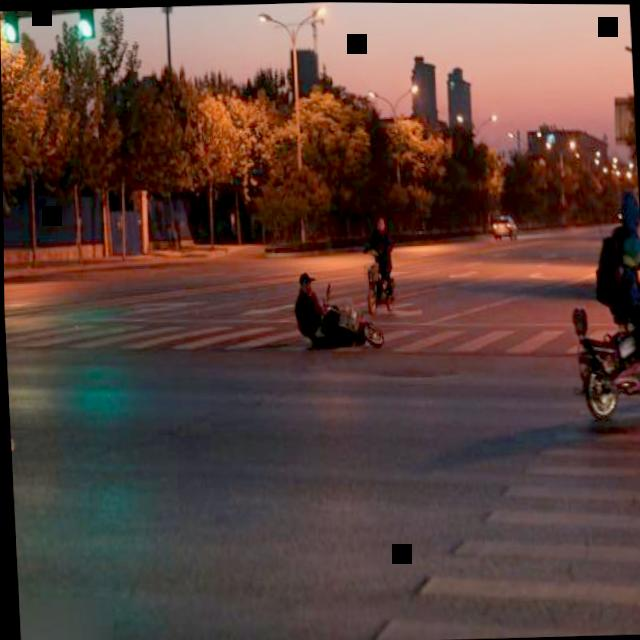Fall-Detected: (282, 254, 381, 360)
